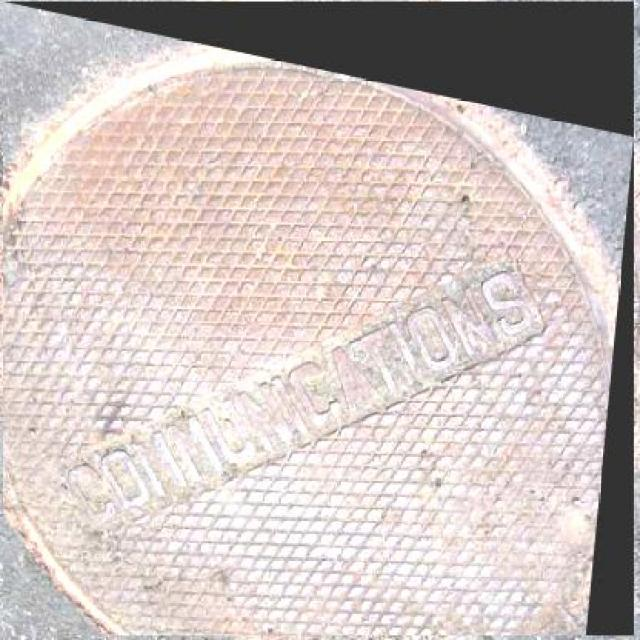Manhole: (3, 2, 634, 636)
